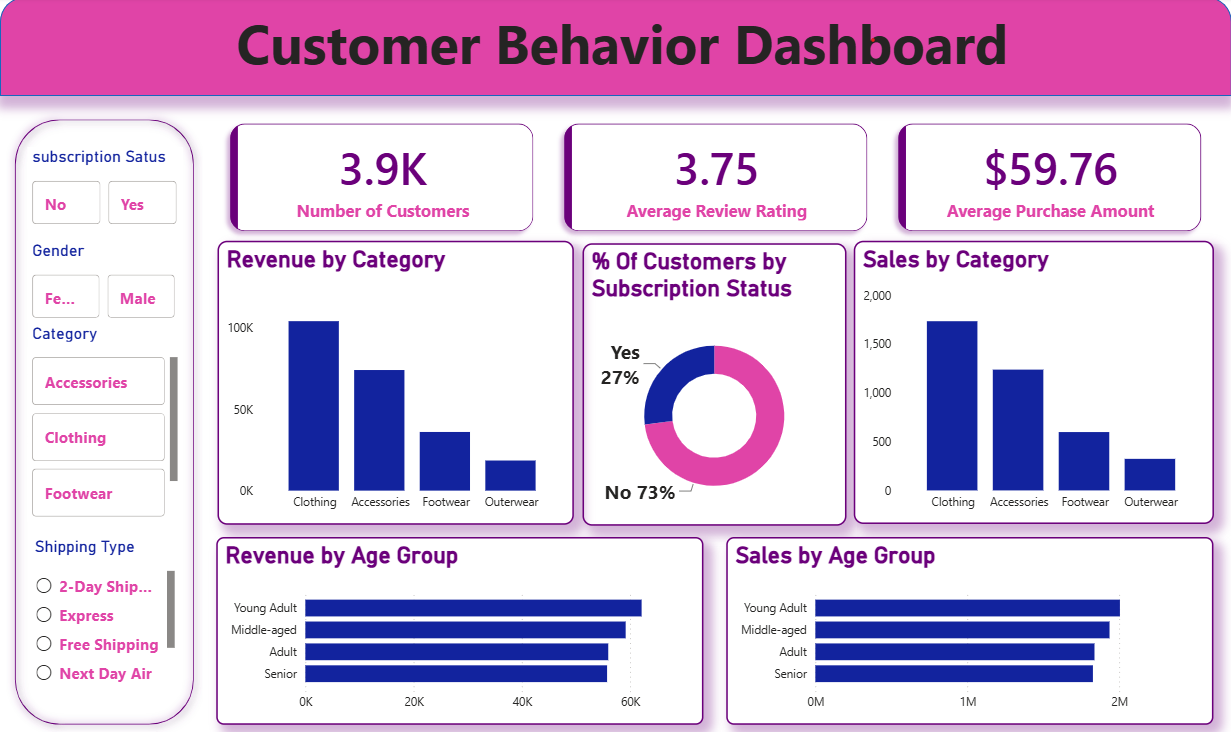

The page's visual inventory and layout, read from the dashboard file:
{"tool":"powerbi","page":{"name":"Page 1","canvas":[1280,765],"ordinal":0},"visuals":[{"type":"cardVisual","fields":{"Data":["cleaned_data.Number of Customers","cleaned_data.Average Review Rating","cleaned_data.Average Purchase Amount"]},"box":[210.5,102.6,1069.3,170.2],"z":0},{"type":"shape","box":[0,0,1280.3,102.9],"z":1000},{"type":"textbox","box":[52.1,4.1,1189.7,97.4],"z":2000},{"type":"donutChart","title":"% Of Customers by Subscription Status ","fields":{"Category":["cleaned_data.subscription_status"],"Y":["Count(cleaned_data.customer_id)"]},"box":[606.1,255.6,274.6,293.5],"z":3000},{"type":"clusteredColumnChart","title":"Revenue by Category","fields":{"Y":["Sum(cleaned_data.purchase_amount)"],"Category":["cleaned_data.category"]},"box":[225.7,253.9,370.6,294.9],"z":4000},{"type":"clusteredColumnChart","title":"Sales by Category","fields":{"Y":["CountNonNull(cleaned_data.customer_id)"],"Category":["cleaned_data.category"]},"box":[887,253.1,374.2,294.7],"z":5000},{"type":"shape","box":[6.5,118.2,204,647],"z":6000},{"type":"advancedSlicerVisual","title":"subscription Satus","fields":{"Values":["cleaned_data.subscription_status"]},"box":[28.6,155.9,161.1,97.4],"z":7000},{"type":"advancedSlicerVisual","title":"Gender","fields":{"Values":["cleaned_data.gender"]},"box":[28.6,253.4,158.5,85.8],"z":8000},{"type":"advancedSlicerVisual","title":"Category","fields":{"Values":["cleaned_data.category"]},"box":[28.6,339.1,161.6,206.4],"z":9000},{"type":"listSlicer","title":"Shipping Type","fields":{"Values":["cleaned_data.shipping_type"]},"box":[31.2,561.3,155.9,161.1],"z":10000},{"type":"clusteredBarChart","title":"Revenue by Age Group","fields":{"Y":["Sum(cleaned_data.purchase_amount)"],"Category":["cleaned_data.age_group"]},"box":[224.8,561.3,506.7,194.9],"z":11000},{"type":"clusteredBarChart","title":"Sales by Age Group","fields":{"Y":["Sum(cleaned_data.customer_id)"],"Category":["cleaned_data.age_group"]},"box":[754.9,561.3,506.7,194.9],"z":12000}]}

Visuals, with their boxes in screenshot pixels (x1, y1, x2, y2), scaled from the page's 1280x765 canvas onto the 1231x732 screenshot:
cardVisual - cleaned_data.Number of Customers x cleaned_data.Average Review Rating: <box>202,98,1230,261</box>
shape: <box>0,0,1230,98</box>
textbox: <box>50,4,1194,97</box>
"% Of Customers by Subscription Status " donutChart: <box>583,245,847,525</box>
"Revenue by Category" clusteredColumnChart: <box>217,243,573,525</box>
"Sales by Category" clusteredColumnChart: <box>853,242,1213,524</box>
shape: <box>6,113,202,731</box>
"subscription Satus" advancedSlicerVisual: <box>28,149,182,242</box>
"Gender" advancedSlicerVisual: <box>28,242,180,325</box>
"Category" advancedSlicerVisual: <box>28,324,183,522</box>
"Shipping Type" listSlicer: <box>30,537,180,691</box>
"Revenue by Age Group" clusteredBarChart: <box>216,537,703,724</box>
"Sales by Age Group" clusteredBarChart: <box>726,537,1213,724</box>
